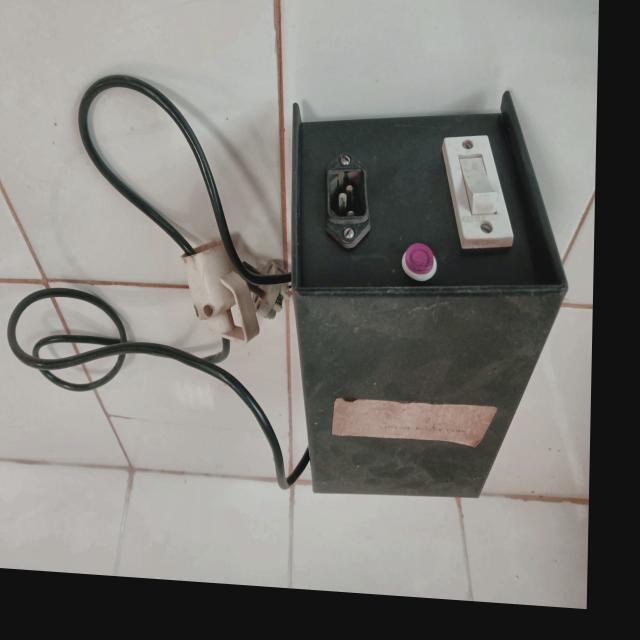Sodium Lamp Power Supply: (287, 78, 580, 534)
